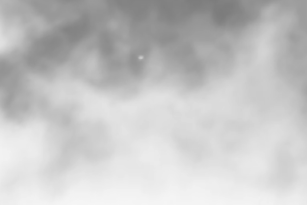Target: (140, 57, 143, 59)
